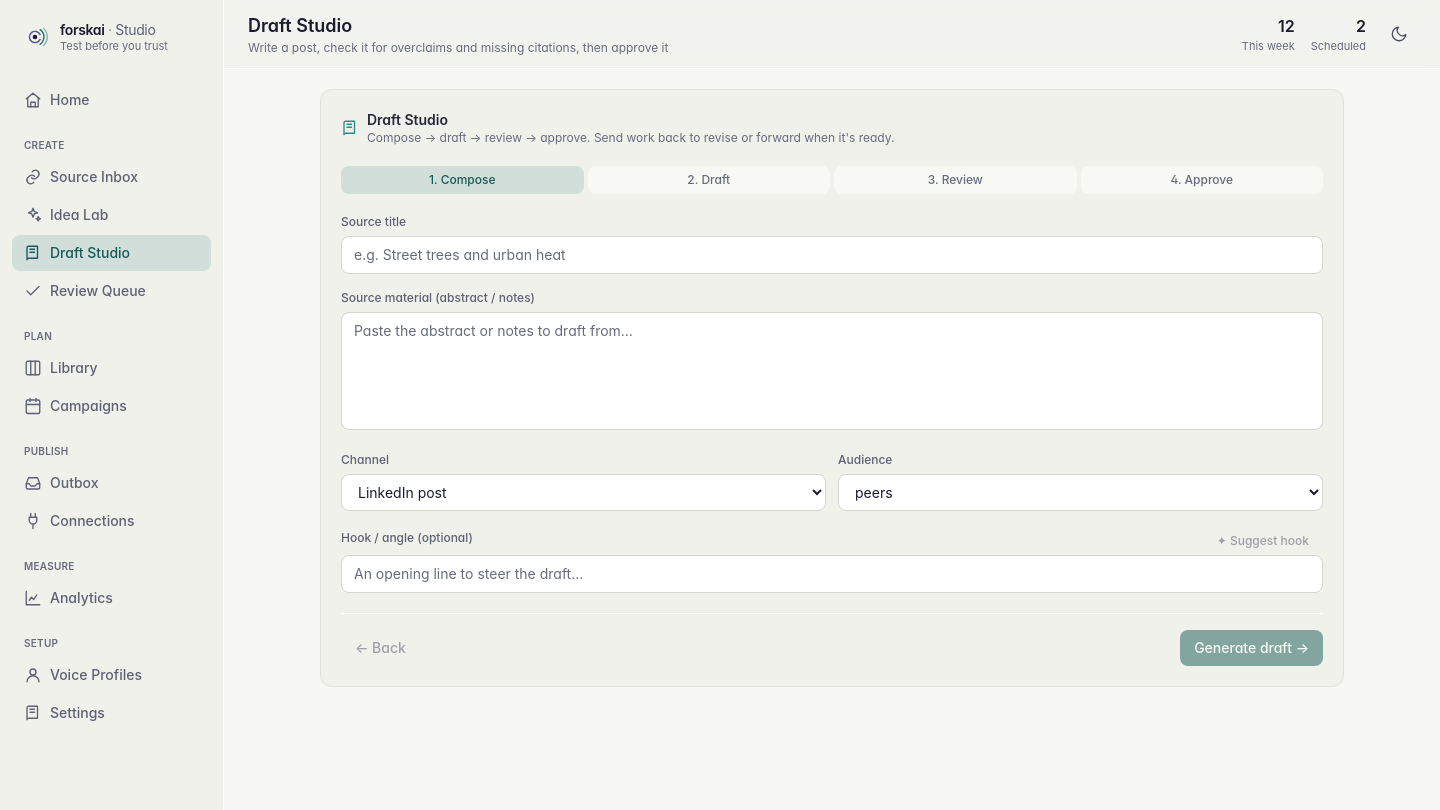
Test: Draft Studio › walks compose → draft → review → export for a clean draft
The width and height of the screenshot is (1440, 810).
Expected: the button "Generate draft →" is disabled, [1180,630,1323,666]
Type "Street trees" into the field labelled "Source title" at [832, 255], box [341,236,1323,274]
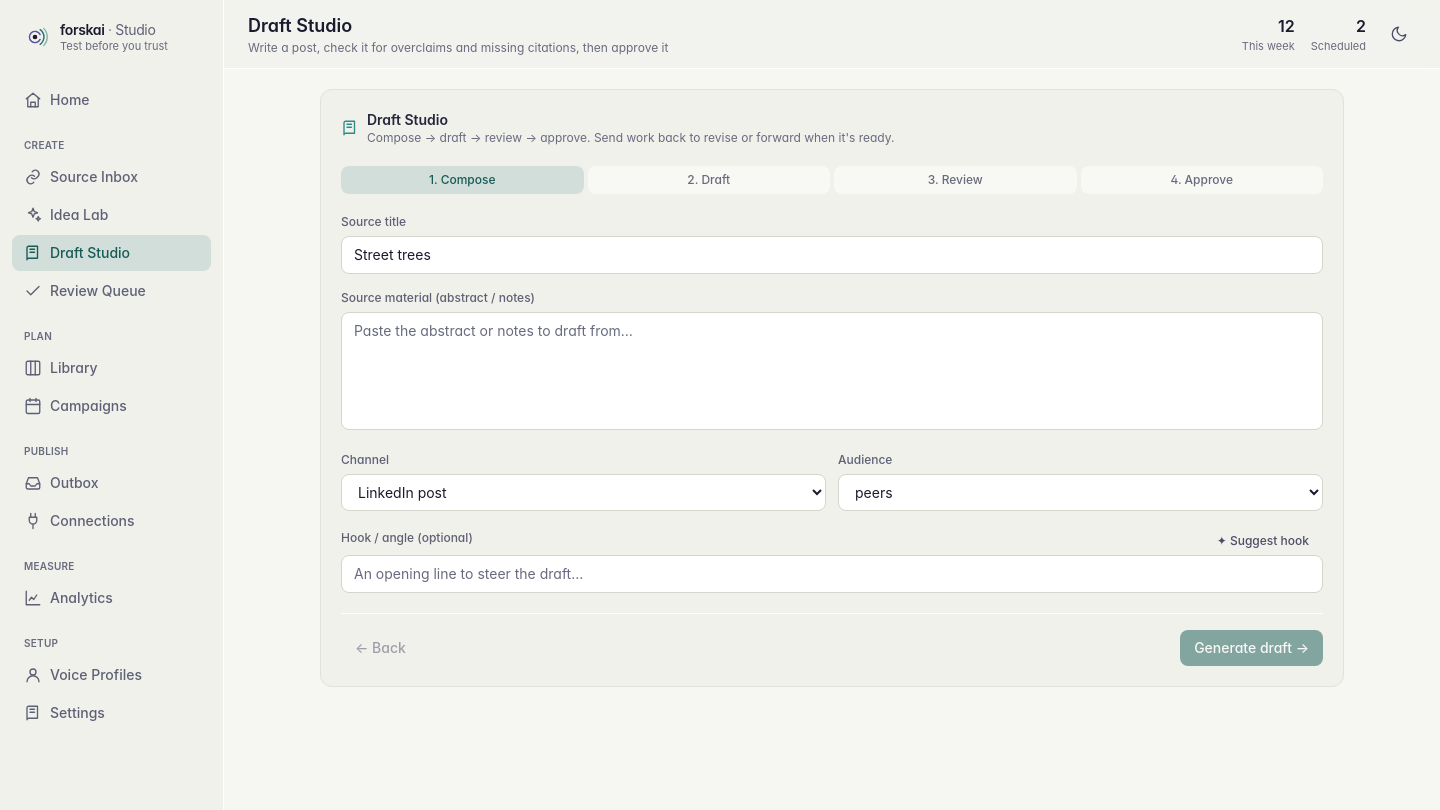
Type "Tree cover was associated with cooler streets." into the text box labelled "Source material (abstract / notes)" at [832, 371], box [341,312,1323,430]
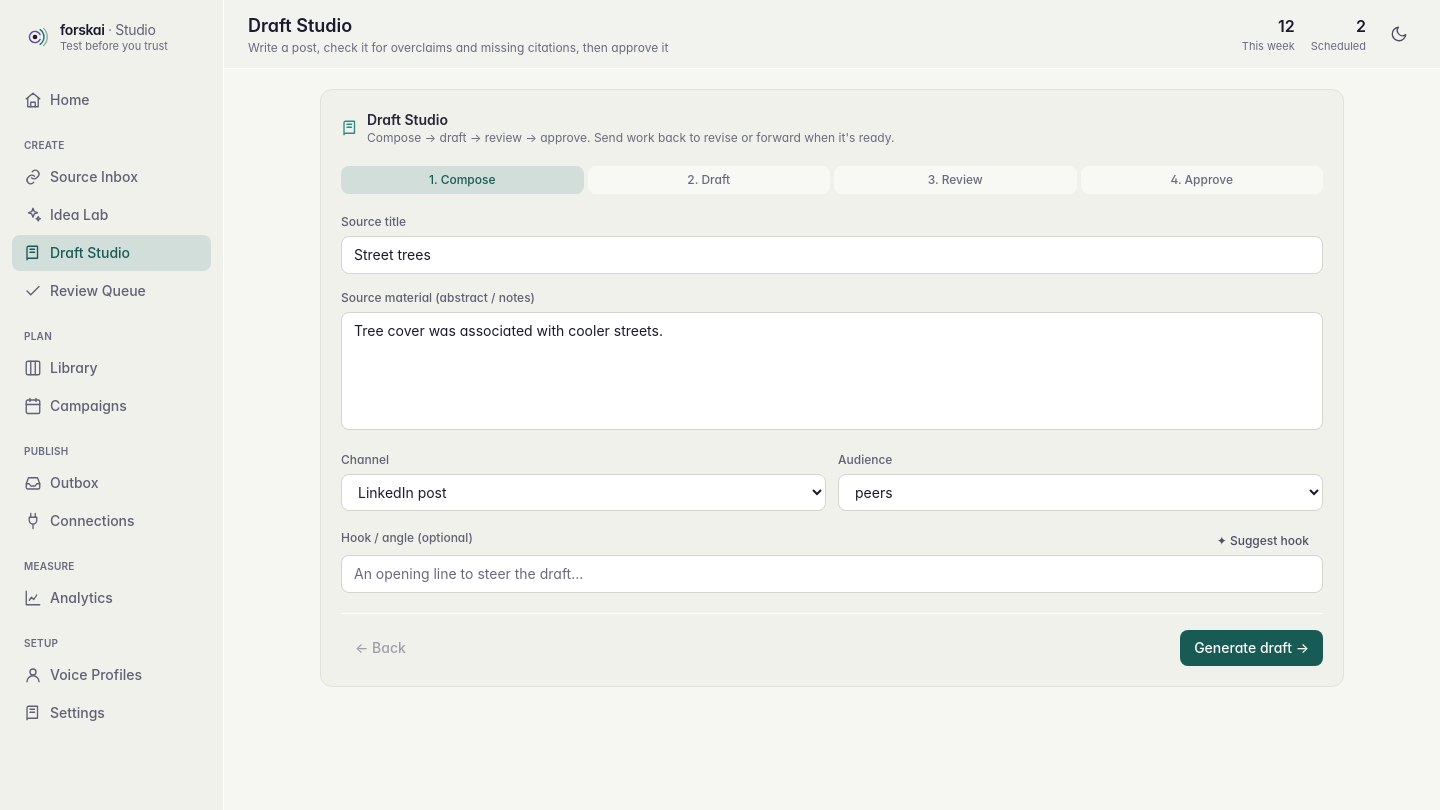
Click the button "Generate draft →" at [1252, 648], box [1180,630,1323,666]
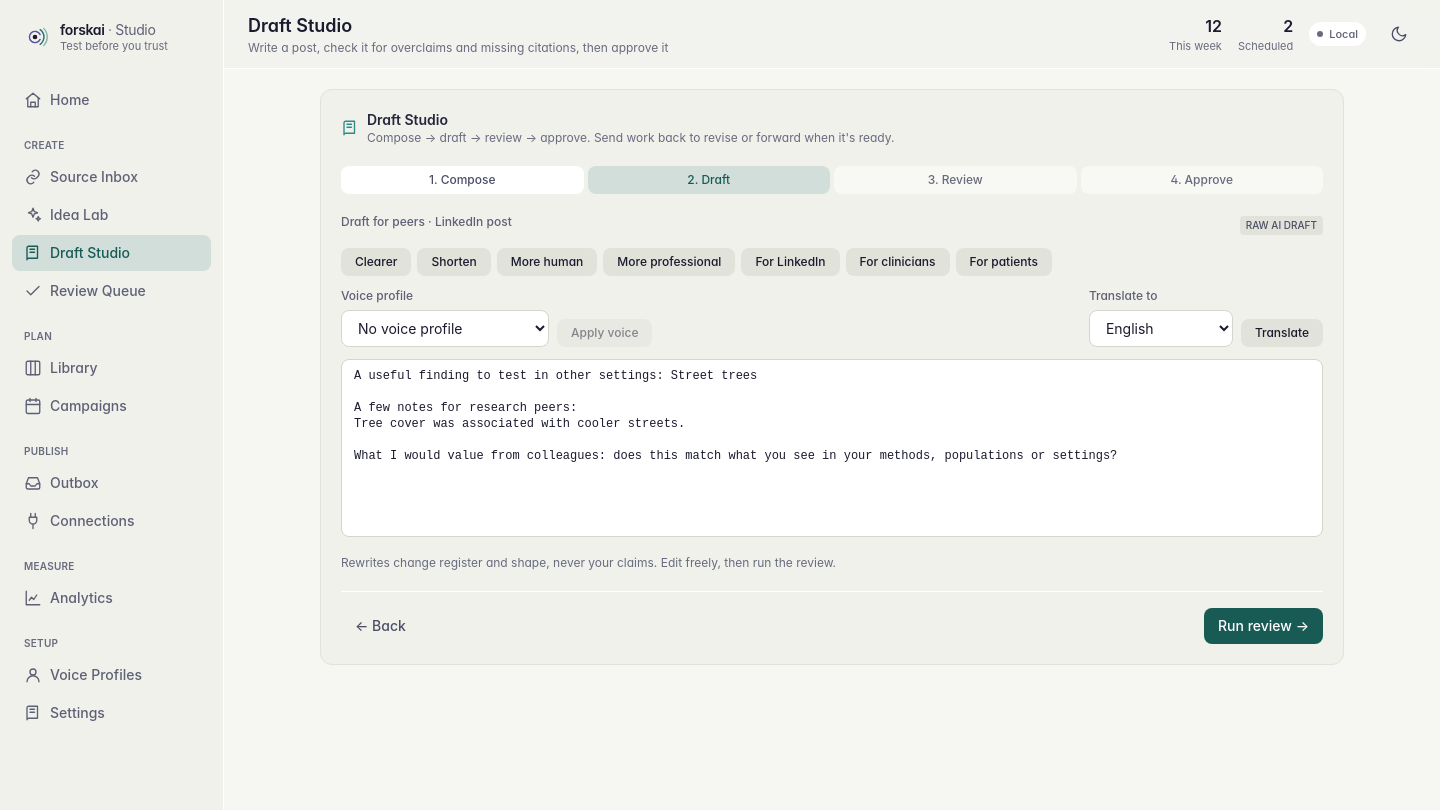
Expected: the text box with test id "studio-draft" is shown, [341,359,1323,537]
Click the button "Run review →" at [1264, 626], box [1204,608,1323,644]
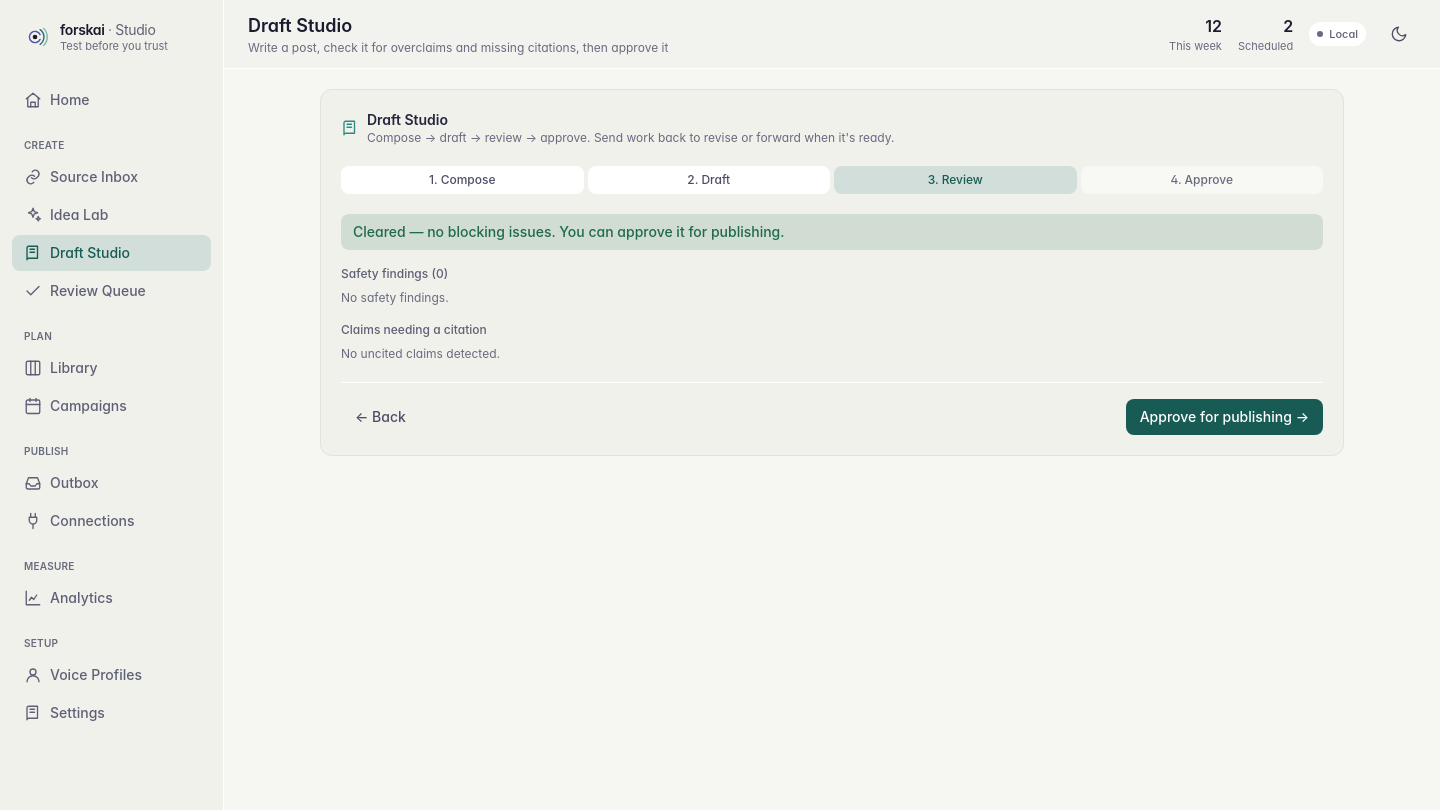
Click the button "Approve for publishing →" at [1224, 417], box [1126,399,1323,435]
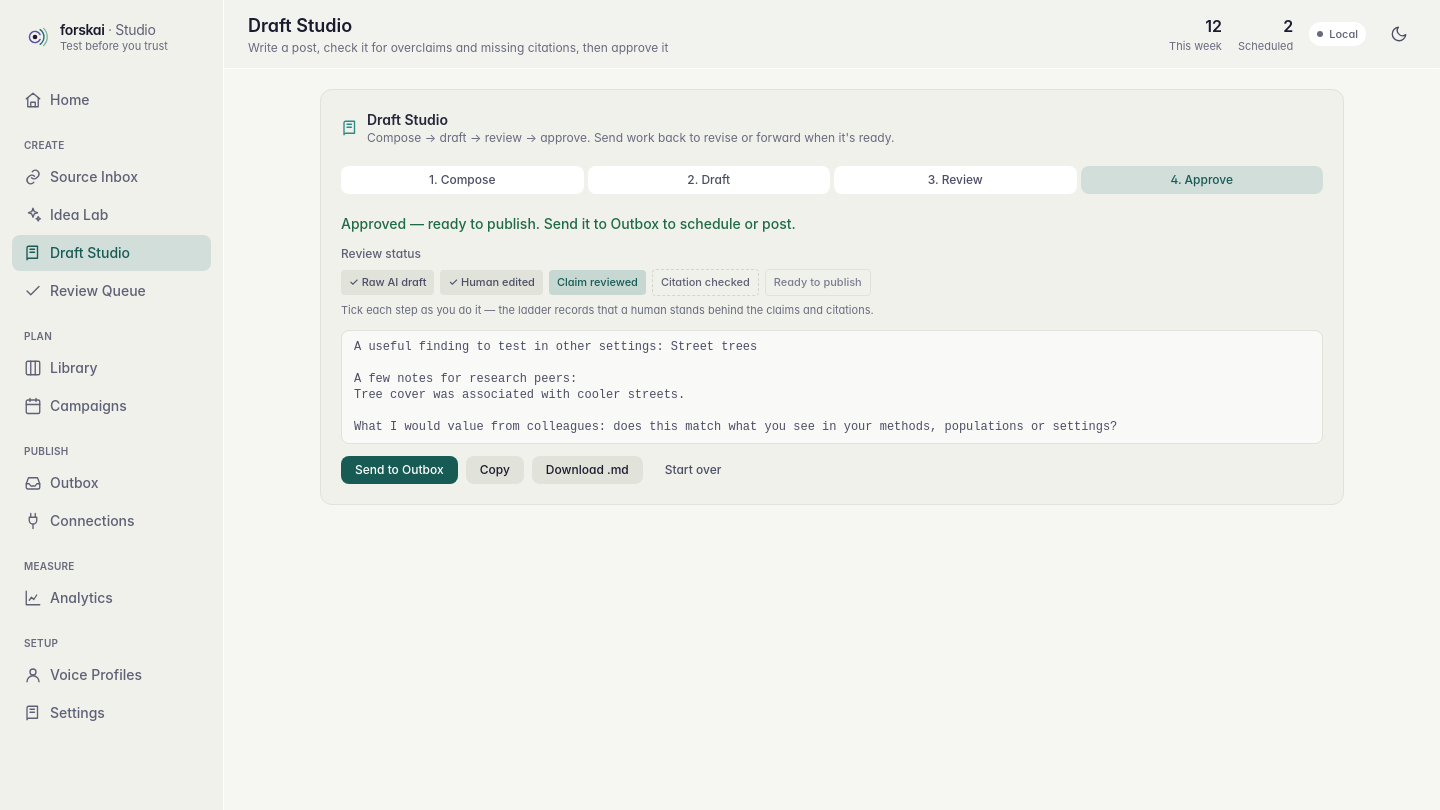
Expected: the text with test id "ready-banner" is shown, [341,215,796,232]
